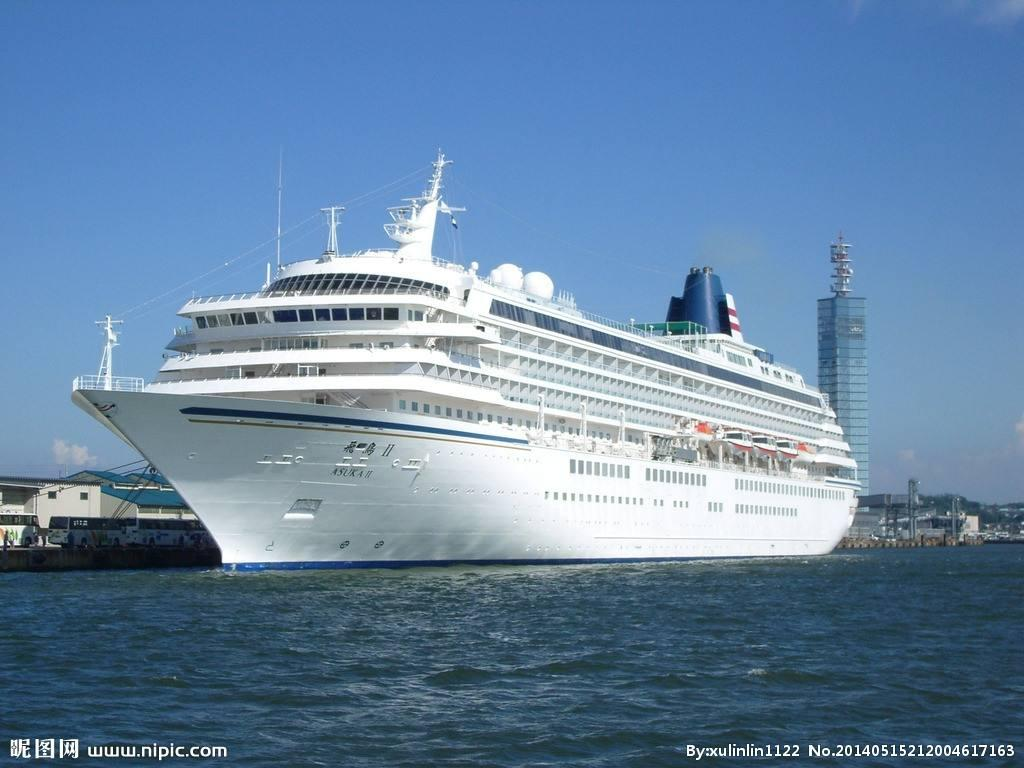youlun: (66, 145, 868, 577)
